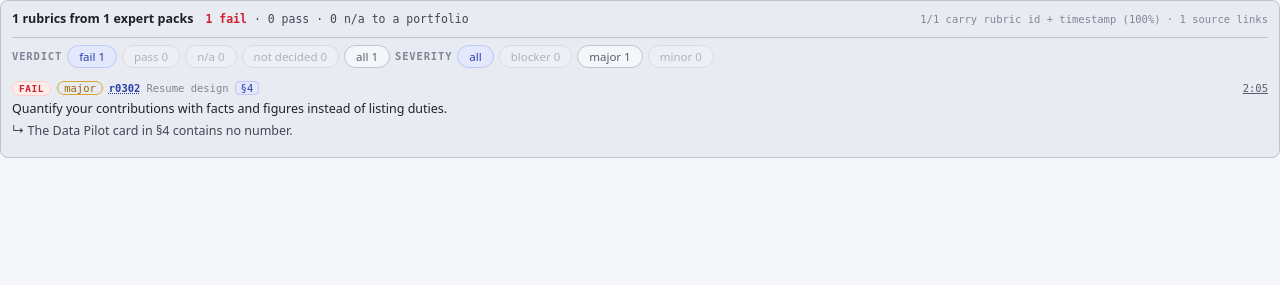
RubricVerdicts › opens the rubric behind a verdict — its check, its rationale, its creators
Expected: the text "If a bullet has no number, fail." is not shown
What coordinates should you click on to do the following:
click the button "r0302"
I would click on:
 (125, 88)
Its box is [109, 82, 140, 94].
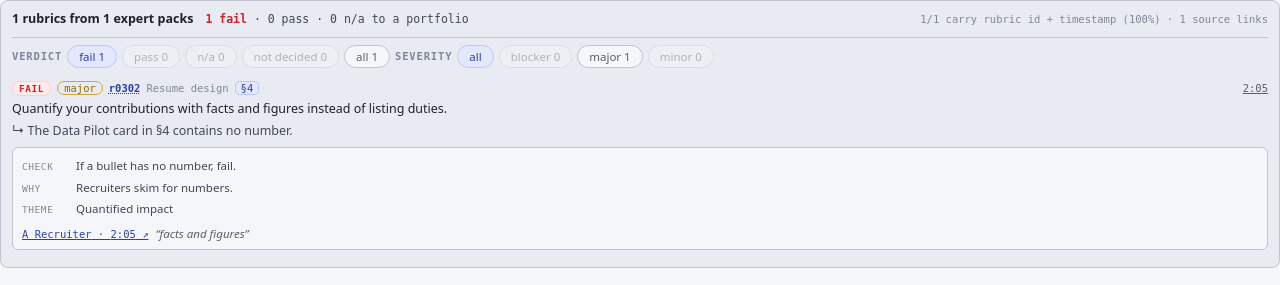
Expected: the text "If a bullet has no number, fail." is shown, [76, 157, 236, 175]
Expected: the text "Recruiters skim for numbers." is shown, [76, 178, 233, 196]
